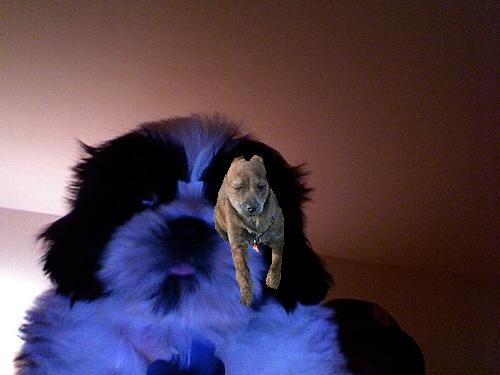tampered: (214, 156, 284, 306)
